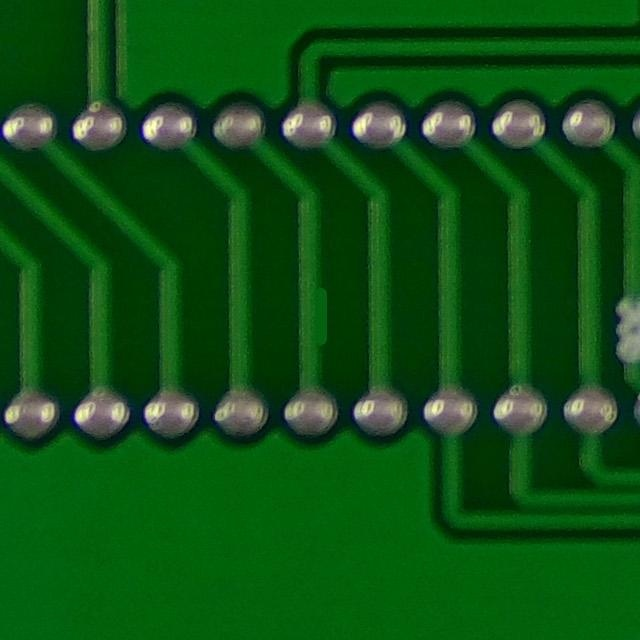spur: (295, 283, 346, 357)
